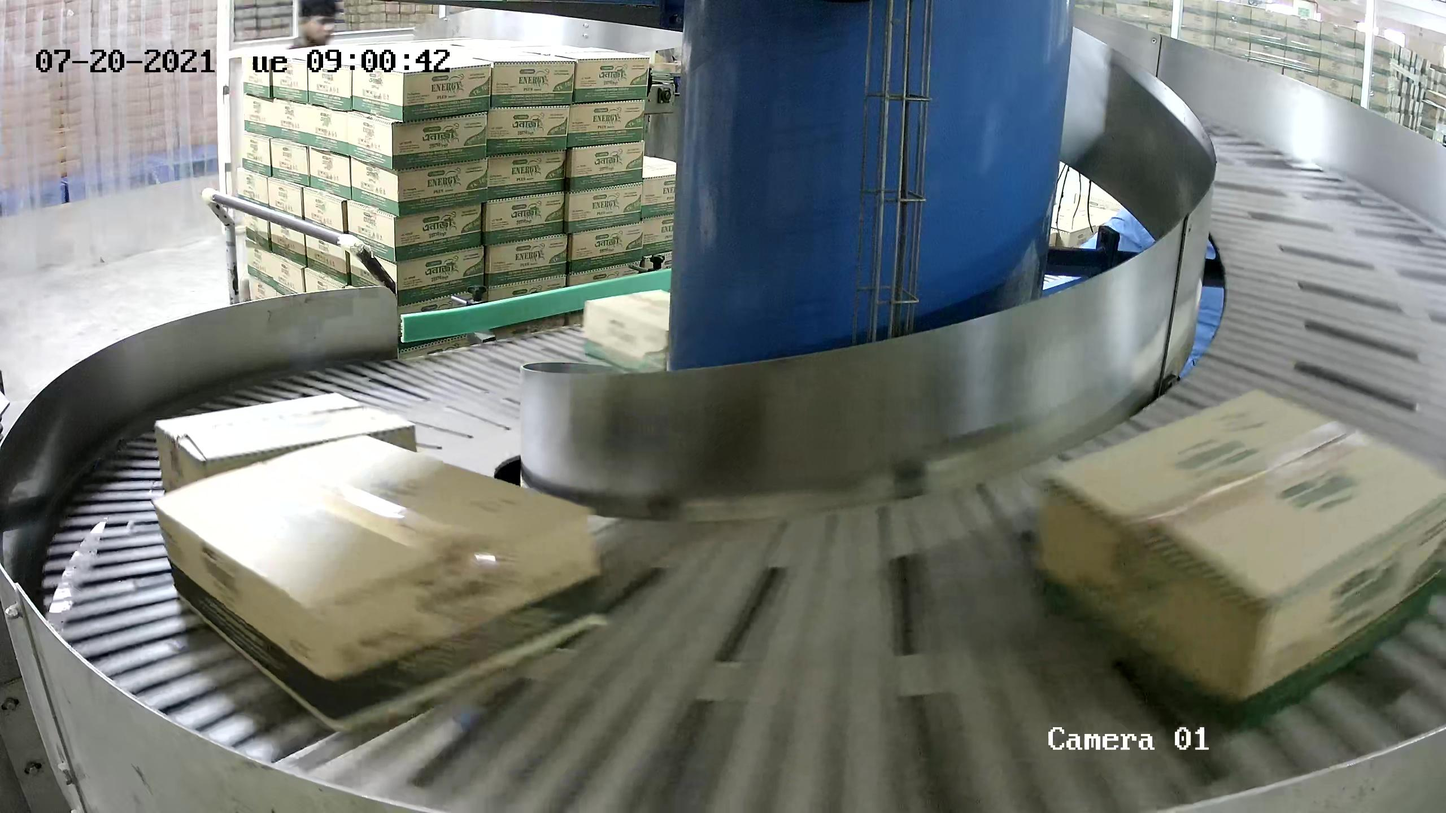Box: (1028, 385, 1446, 736), (149, 432, 605, 734), (582, 288, 671, 373)
